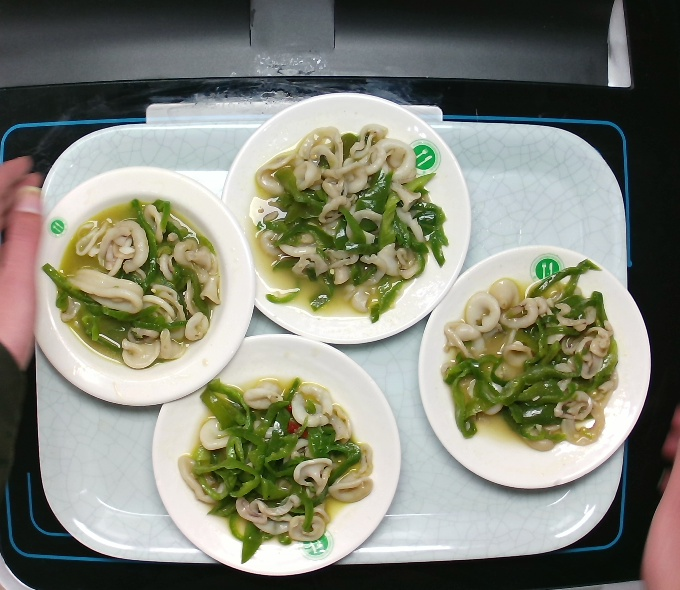wcq-QingJiaoYouYu: (176, 366, 388, 568), (251, 125, 463, 327), (435, 254, 647, 456), (41, 179, 253, 381)
